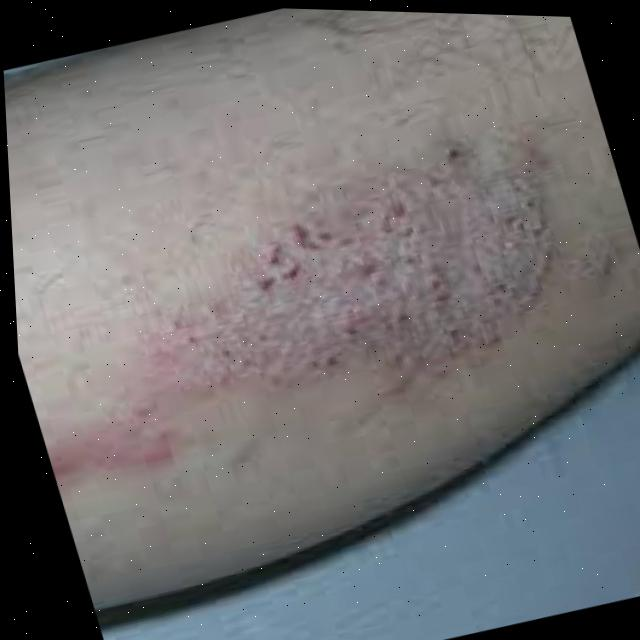Eczema: (7, 142, 572, 480)
